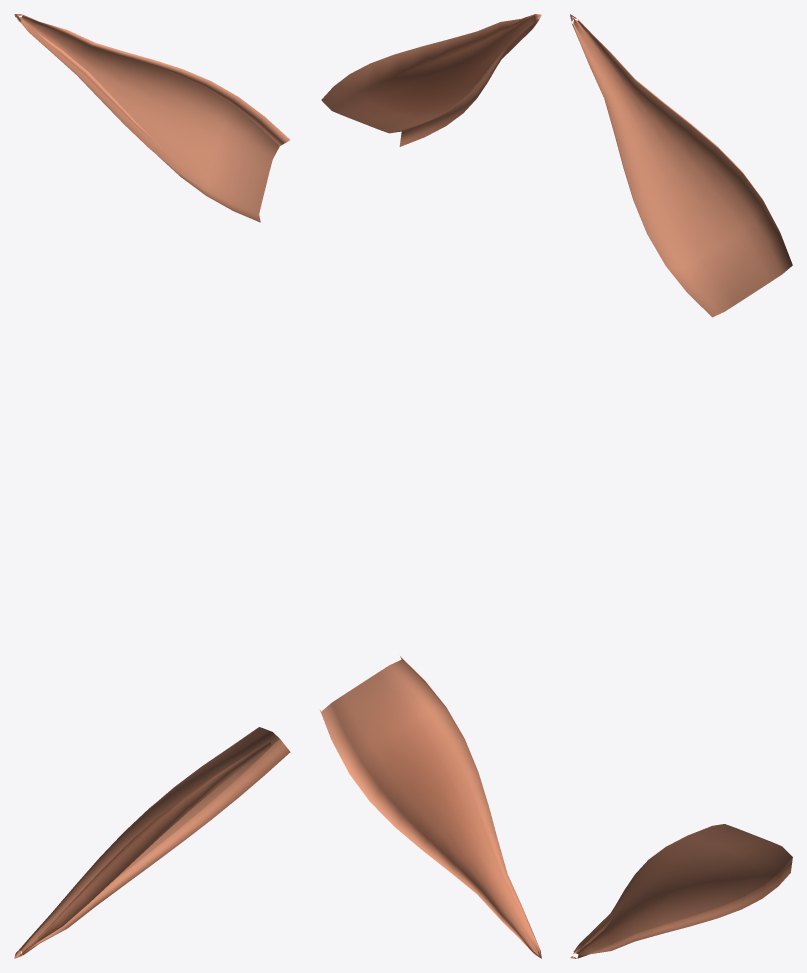
Rendered from mm9_peasantboy_elfears.glb.
3 views of the same model, side by side, from view 1: azimuth 30°, elevation 25°; view 2: azimuth 150°, elevation 25°; view 3: azimuth 330°, elevation 25° (orthographic).
Parts seen in each view (by area): view 1: Bip01 ElfEars; view 2: Bip01 ElfEars; view 3: Bip01 ElfEars.
Boxes of the visible parts, box(x1,y1,x2,y2) form: Bip01 ElfEars: box(14, 14, 290, 958); Bip01 ElfEars: box(320, 14, 541, 958); Bip01 ElfEars: box(570, 14, 792, 958).
Bounding box in the file's own units: 0.0685 × 0.249 × 0.0284.
1 material, 1 textured.
